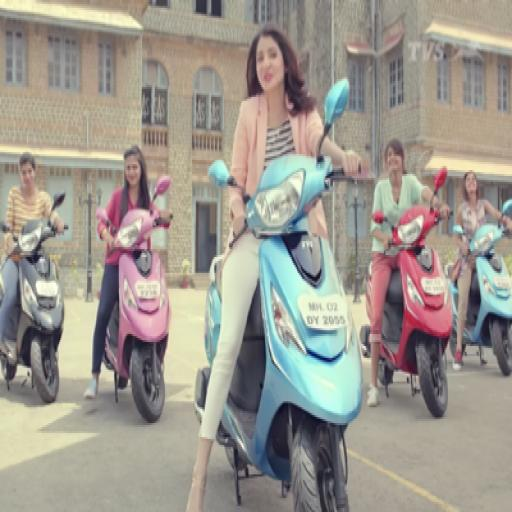Without Helmet: (248, 18, 290, 93), (380, 134, 407, 176), (14, 146, 38, 190), (461, 160, 479, 200), (119, 140, 146, 156)
